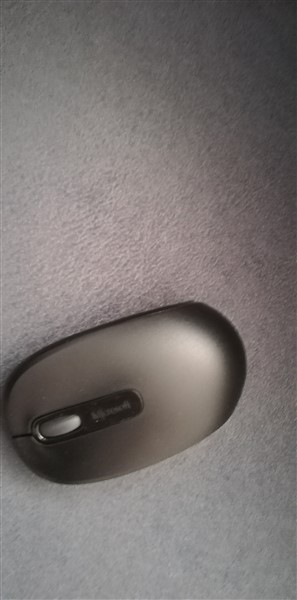mouse: (1, 296, 252, 492)
